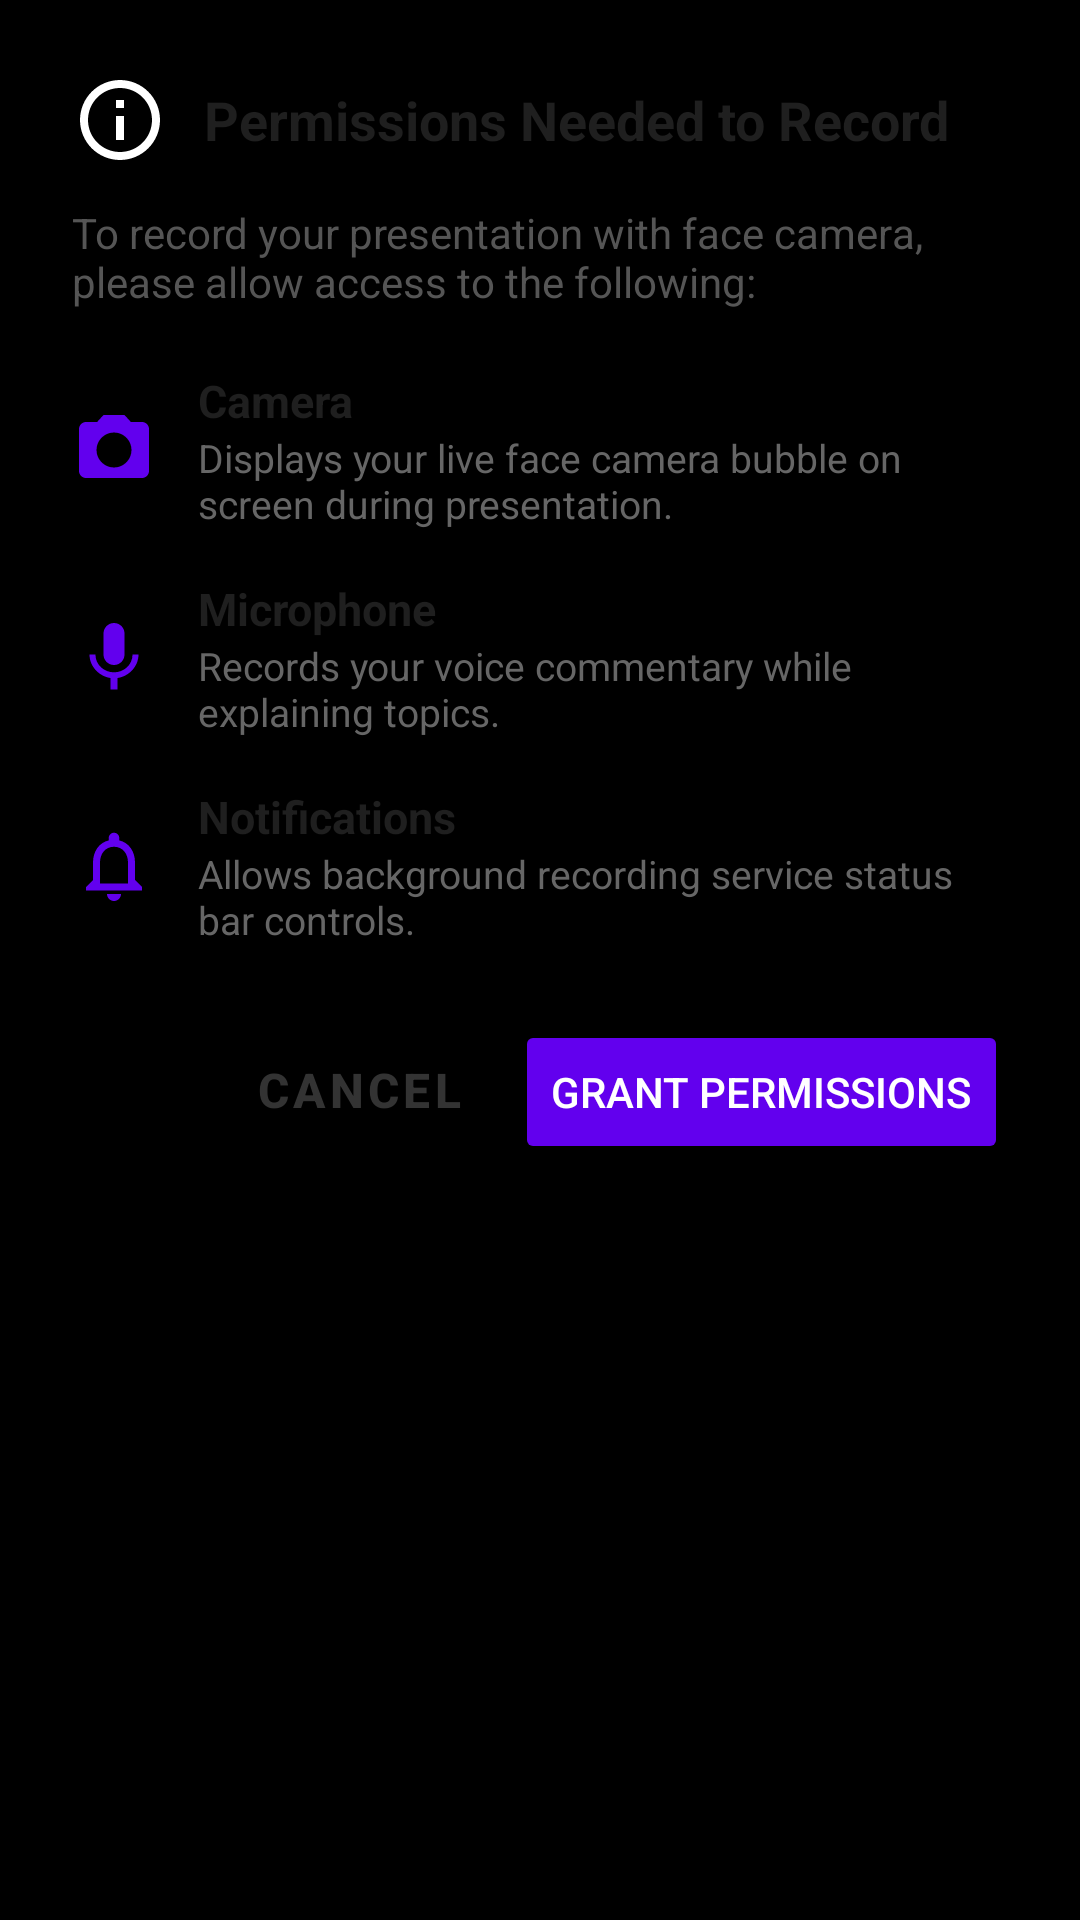

Icons on this 1080*1920 Android screen, each with the point to tap as (x,y):
Info Icon: (120,120)
Notification Icon: (114,866)
